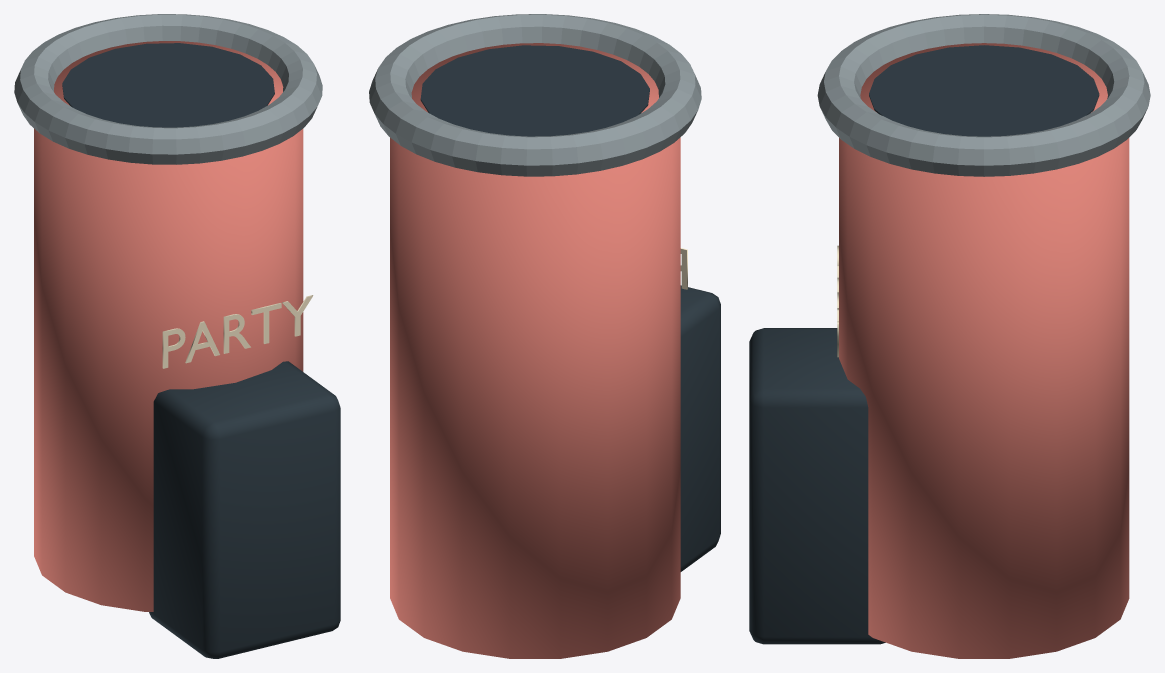
File: AH03_Confetti.fbx
3 renders of one model, left to right at view 1: azimuth 30°, elevation 25°; view 2: azimuth 150°, elevation 25°; view 3: azimuth 270°, elevation 25°, orthographic. The views are drawn at different scales.
Visible parts, largest first — view 1: AH03_Confetti_AH03_Rose, AH03_Confetti_AH03_Dark, AH03_Confetti_AH03_Metal, AH03_Confetti_AH03_Cream; view 2: AH03_Confetti_AH03_Rose, AH03_Confetti_AH03_Dark, AH03_Confetti_AH03_Metal; view 3: AH03_Confetti_AH03_Rose, AH03_Confetti_AH03_Dark, AH03_Confetti_AH03_Metal.
Boxes of the visible parts, x1,y1,x2,y2 form: AH03_Confetti_AH03_Rose: (34,41,303,611); AH03_Confetti_AH03_Dark: (62,43,340,658); AH03_Confetti_AH03_Metal: (14,14,322,164); AH03_Confetti_AH03_Cream: (162,295,313,368); AH03_Confetti_AH03_Rose: (390,43,680,658); AH03_Confetti_AH03_Dark: (420,45,720,571); AH03_Confetti_AH03_Metal: (369,14,701,176); AH03_Confetti_AH03_Rose: (839,43,1129,658); AH03_Confetti_AH03_Dark: (749,45,1099,644); AH03_Confetti_AH03_Metal: (817,14,1150,176).
Bounding box in the file's own units: 39 × 69.5 × 47.
